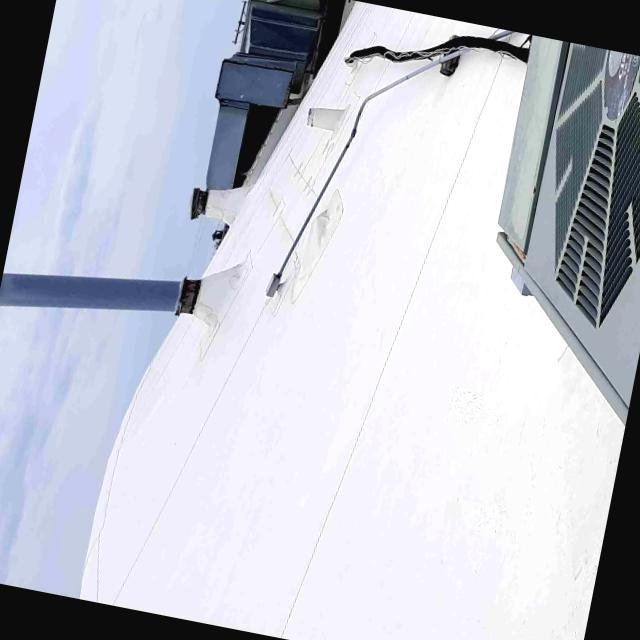SPLIT-SYSTEM: (449, 33, 640, 445)
